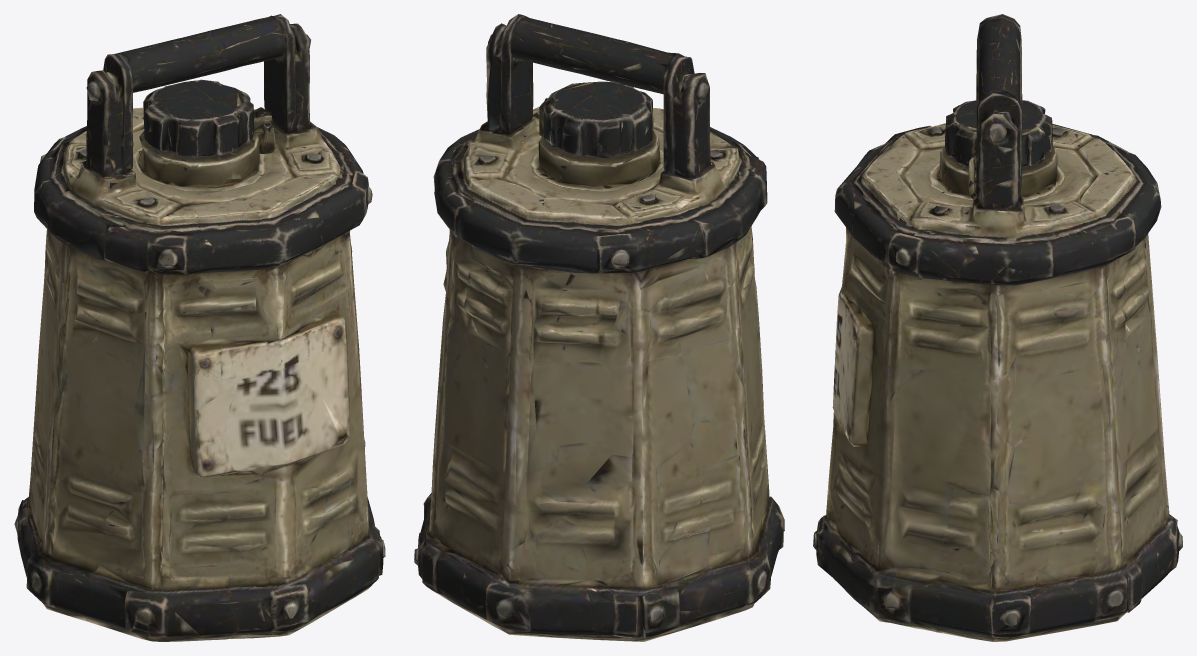
Rendered from fuel-canister.glb.
3 views of the same model, side by side, from view 1: azimuth 30°, elevation 25°; view 2: azimuth 150°, elevation 25°; view 3: azimuth 270°, elevation 25° (orthographic). The views are drawn at different scales.
Size of the model in its own units: 1.23 by 1.9 by 1.23.
1 material, 1 textured.
